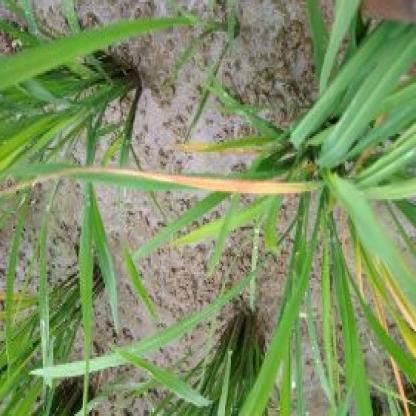Tungro: (66, 162, 310, 202)
